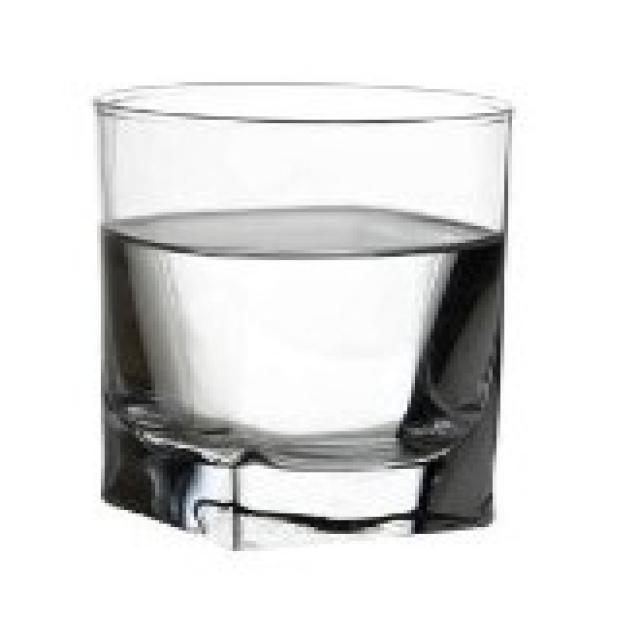electronic: (86, 71, 518, 558)
